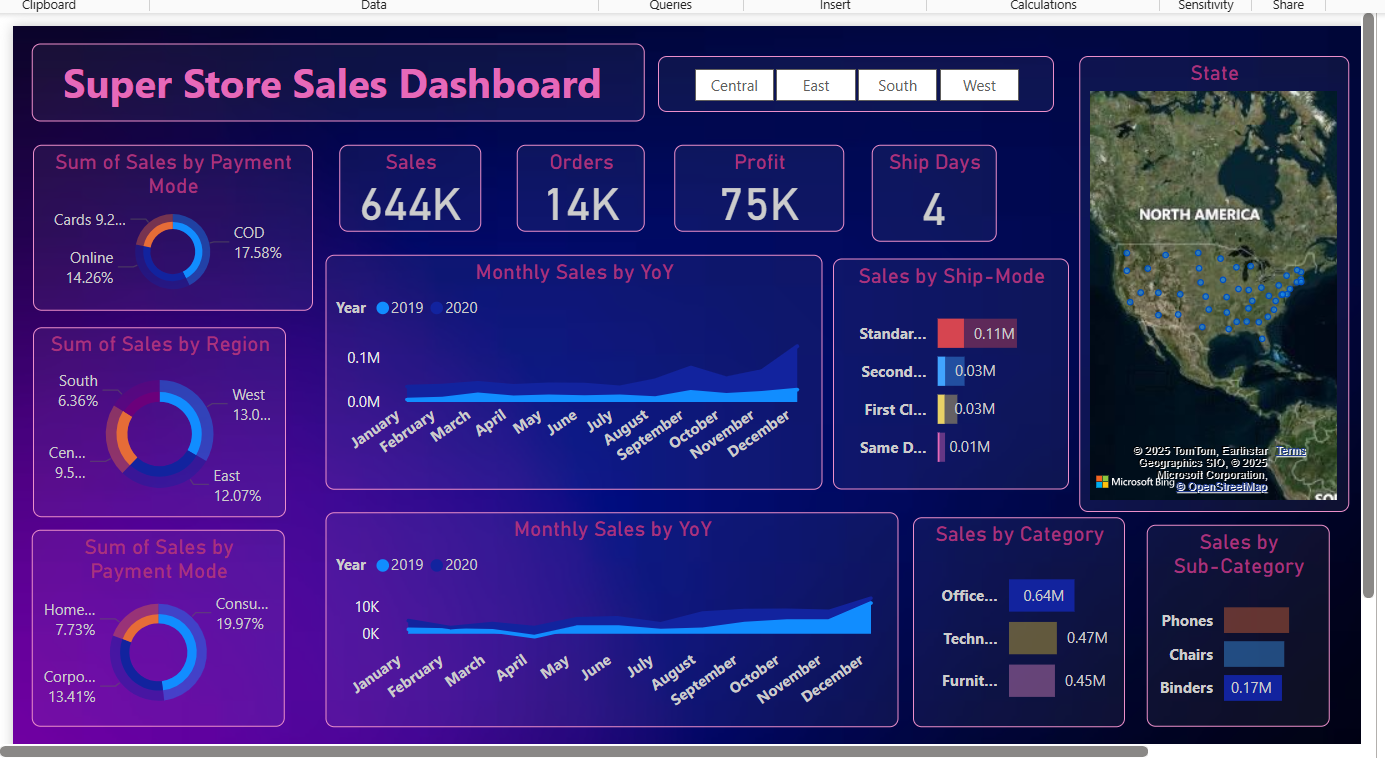

The page's visual inventory and layout, read from the dashboard file:
{"tool":"powerbi","page":{"name":"Dashboard","canvas":[1280,720],"ordinal":0},"visuals":[{"type":"clusteredBarChart","title":" Sales by Category","fields":{"Category":["SuperStore_Sales_Dataset (yt).Category"],"Y":["Sum(SuperStore_Sales_Dataset (yt).Sales)"]},"box":[720,393,170,168],"z":0},{"type":"clusteredBarChart","title":" Sales by Sub-Category","fields":{"Category":["SuperStore_Sales_Dataset (yt).Sub-Category"],"Y":["Sum(SuperStore_Sales_Dataset (yt).Sales)"]},"box":[907,399,147,162],"z":1000},{"type":"clusteredBarChart","title":" Sales by Ship-Mode","fields":{"Category":["SuperStore_Sales_Dataset (yt).Ship Mode"],"Y":["Sum(SuperStore_Sales_Dataset (yt).Sales)"]},"box":[656,186,189,185],"z":2000},{"type":"stackedAreaChart","title":"Monthly Sales by YoY","fields":{"Y":["Sum(SuperStore_Sales_Dataset (yt).Sales)"],"Series":["SuperStore_Sales_Dataset (yt).Order Date.Variation.Date Hierarchy.Year"],"Category":["SuperStore_Sales_Dataset (yt).Order Date.Variation.Date Hierarchy.Month","SuperStore_Sales_Dataset (yt).Order Date.Variation.Date Hierarchy.Day"]},"box":[250,183,398,188],"z":3000},{"type":"stackedAreaChart","title":"Monthly Sales by YoY","fields":{"Series":["SuperStore_Sales_Dataset (yt).Order Date.Variation.Date Hierarchy.Year"],"Category":["SuperStore_Sales_Dataset (yt).Order Date.Variation.Date Hierarchy.Month","SuperStore_Sales_Dataset (yt).Order Date.Variation.Date Hierarchy.Day"],"Y":["Sum(SuperStore_Sales_Dataset (yt).Profit)"]},"box":[250,389,459,172],"z":4000},{"type":"donutChart","title":"Sum of Sales by Payment Mode ","fields":{"Category":["SuperStore_Sales_Dataset (yt).Segment"],"Y":["Sum(SuperStore_Sales_Dataset (yt).Sales)"]},"box":[15,403,203,158],"z":5000},{"type":"slicer","fields":{"Values":["SuperStore_Sales_Dataset (yt).Region"]},"box":[516,24,317,45],"z":6000},{"type":"donutChart","fields":{"Category":["SuperStore_Sales_Dataset (yt).Region"],"Y":["Sum(SuperStore_Sales_Dataset (yt).Sales)"]},"box":[16,241,203,152],"z":7000},{"type":"textbox","box":[15,14,491,63],"z":8000},{"type":"card","title":"Sales","fields":{"Values":["Sum(SuperStore_Sales_Dataset (yt).Sales)"]},"box":[261,95,114,70],"z":9000},{"type":"map","fields":{"Category":["SuperStore_Sales_Dataset (yt).State"]},"box":[853,24,216,365],"z":10000},{"type":"card","title":"Orders","fields":{"Values":["Sum(SuperStore_Sales_Dataset (yt).Quantity)"]},"box":[403,95,103,70],"z":11000},{"type":"card","title":"Profit ","fields":{"Values":["Sum(SuperStore_Sales_Dataset (yt).Profit)"]},"box":[529,95,136,70],"z":12000},{"type":"card","title":"Ship Days","fields":{"Values":["Avg(SuperStore_Sales_Dataset (yt).AvgDelivery)"]},"box":[687,95,100,78],"z":13000},{"type":"donutChart","fields":{"Y":["Sum(SuperStore_Sales_Dataset (yt).Sales)"],"Category":["SuperStore_Sales_Dataset (yt).Payment Mode"]},"box":[16,95,224,133],"z":14000}]}

Visuals, with their boxes on the page's 1280x720 design canvas (x1, y1, x2, y2). These are canvas units, not pixel positions in the 1385x758 screenshot, which may show the page scaled, cropped or inside an application window:
" Sales by Category" clusteredBarChart: box(720, 393, 890, 561)
" Sales by Sub-Category" clusteredBarChart: box(907, 399, 1054, 561)
" Sales by Ship-Mode" clusteredBarChart: box(656, 186, 845, 371)
"Monthly Sales by YoY" stackedAreaChart: box(250, 183, 648, 371)
"Monthly Sales by YoY" stackedAreaChart: box(250, 389, 709, 561)
"Sum of Sales by Payment Mode " donutChart: box(15, 403, 218, 561)
slicer - SuperStore_Sales_Dataset (yt).Region: box(516, 24, 833, 69)
donutChart - SuperStore_Sales_Dataset (yt).Region x Sum(SuperStore_Sales_Dataset (yt).Sales): box(16, 241, 219, 393)
textbox: box(15, 14, 506, 77)
"Sales" card: box(261, 95, 375, 165)
map - SuperStore_Sales_Dataset (yt).State: box(853, 24, 1069, 389)
"Orders" card: box(403, 95, 506, 165)
"Profit " card: box(529, 95, 665, 165)
"Ship Days" card: box(687, 95, 787, 173)
donutChart - Sum(SuperStore_Sales_Dataset (yt).Sales) x SuperStore_Sales_Dataset (yt).Payment Mode: box(16, 95, 240, 228)
